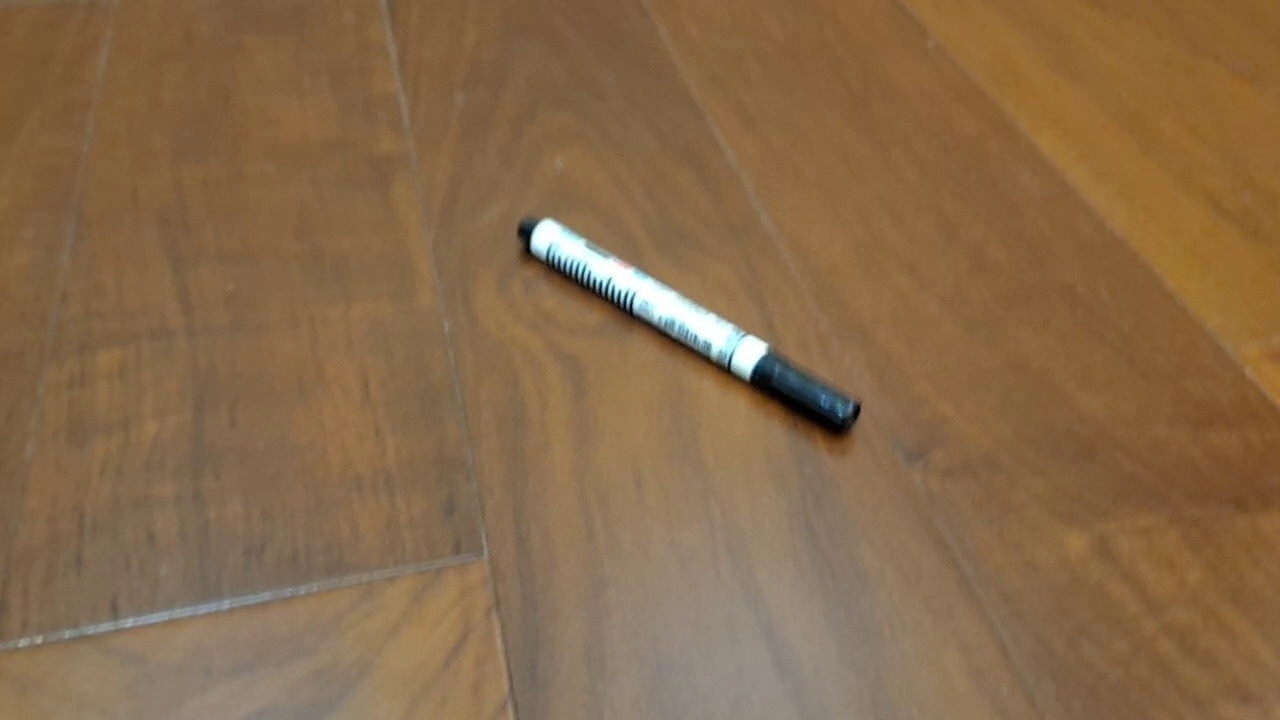pen: (517, 215, 862, 437)
